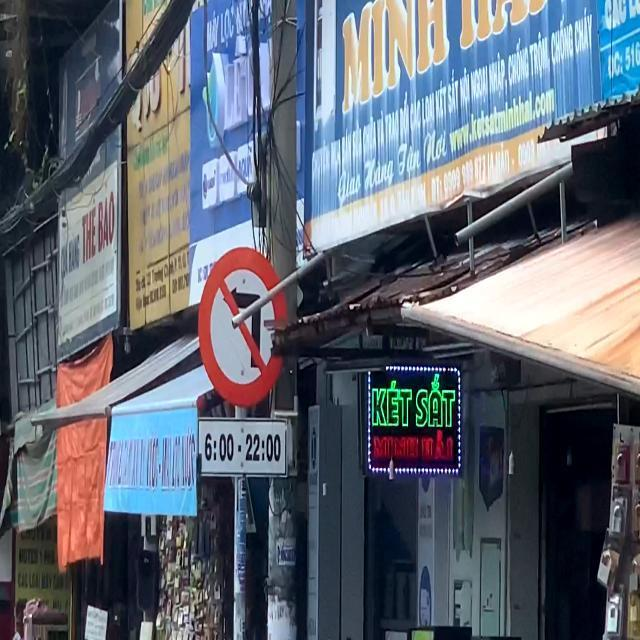123a-cam-re-trai: (196, 248, 288, 406)
